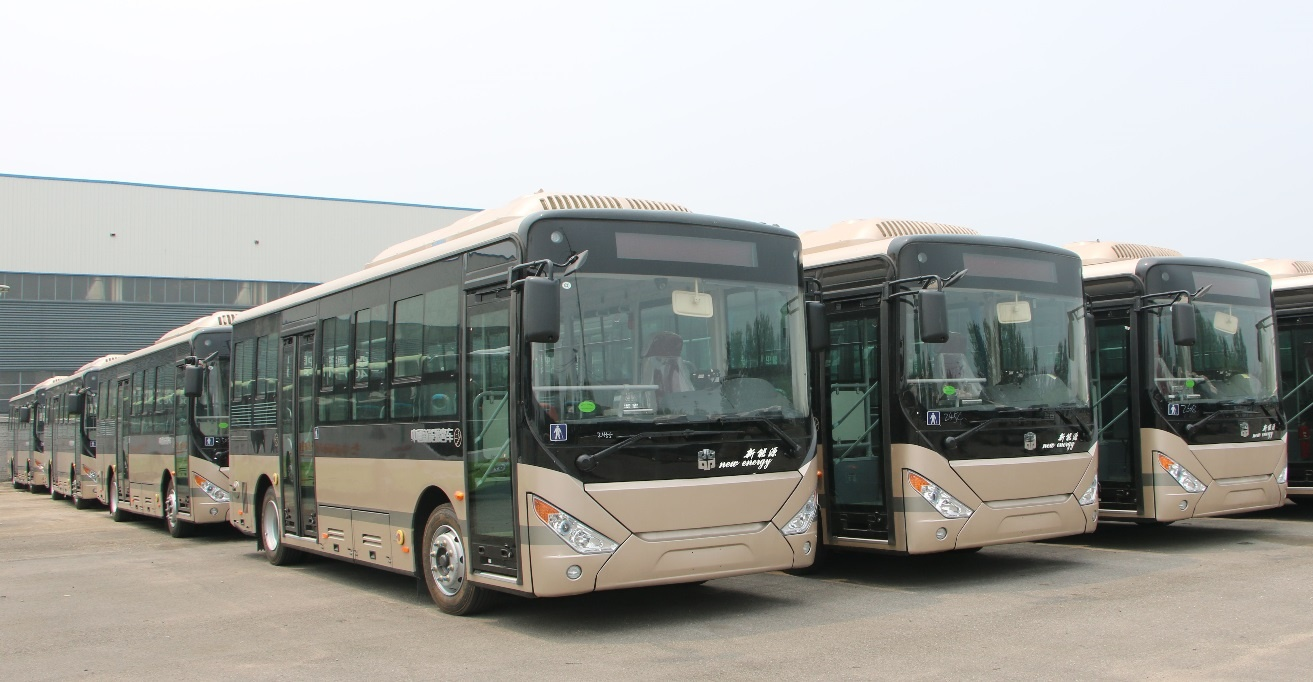bus: (220, 209, 833, 627), (818, 209, 1130, 564), (1097, 234, 1298, 532)
